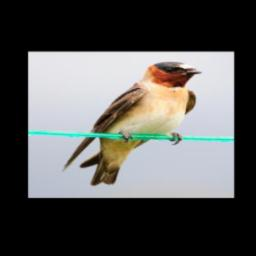Swallow: (61, 61, 203, 186)
